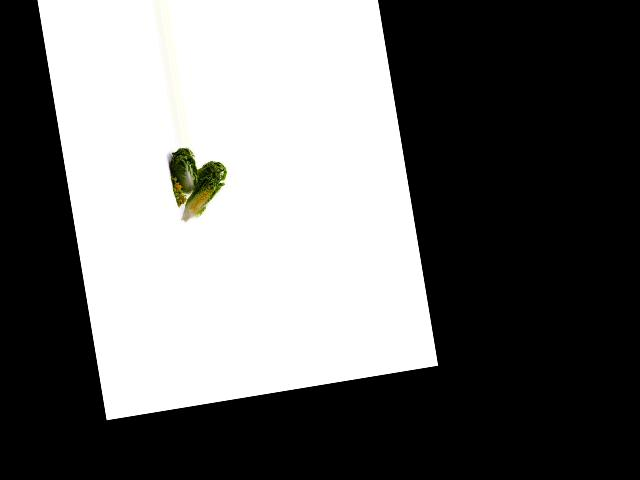lettuce: (165, 147, 203, 201)
